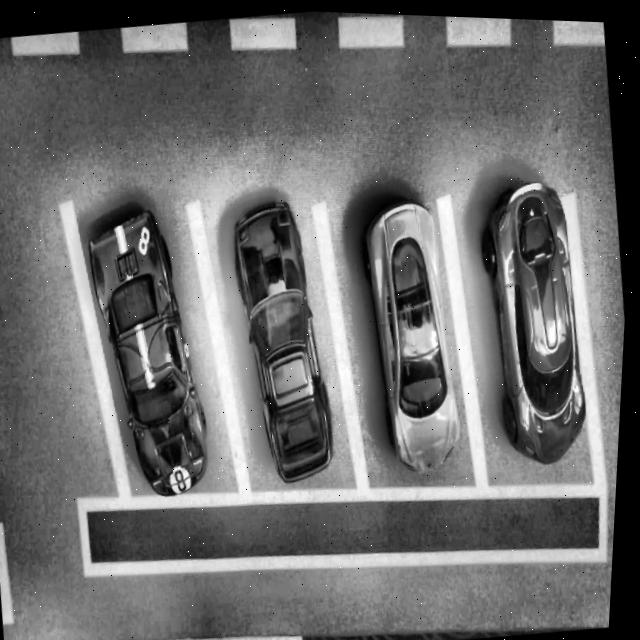car: (77, 199, 228, 502), (466, 169, 606, 466), (220, 191, 351, 485), (349, 188, 479, 474)
